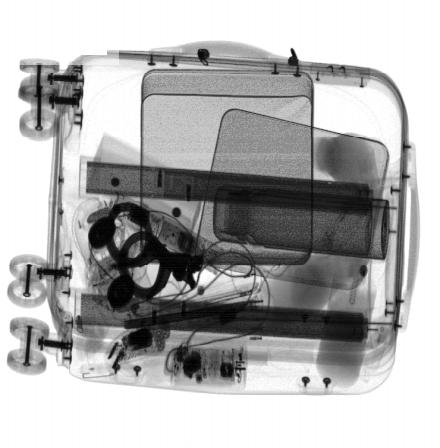Baton: (115, 194, 224, 277)
HandCuffs: (104, 201, 205, 302)
